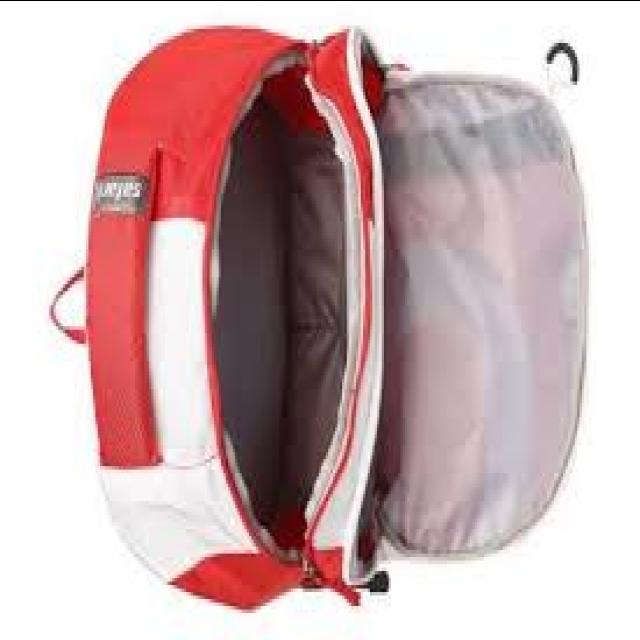backpack: (48, 26, 588, 617)
